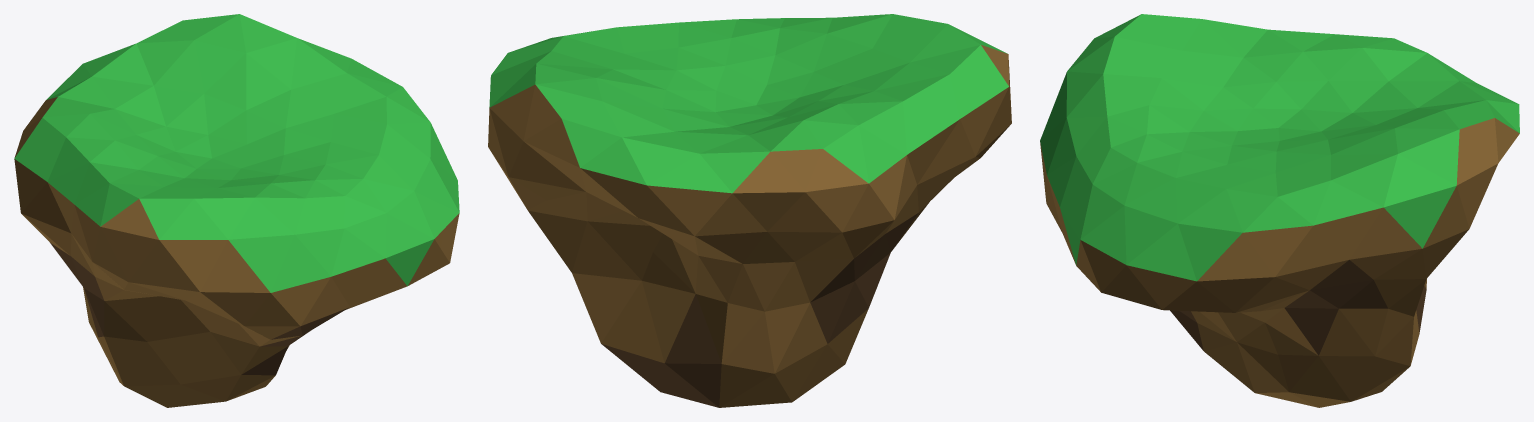
File: floatingisland1.glb
3 views of the same model, side by side, from view 1: azimuth 30°, elevation 25°; view 2: azimuth 150°, elevation 25°; view 3: azimuth 270°, elevation 25° (orthographic). The views are drawn at different scales.
Parts seen in each view (by area): view 1: Icosphere; view 2: Icosphere; view 3: Icosphere.
Boxes of the visible parts, x1=… form: Icosphere: x1=14, y1=14, x2=459, y2=407; Icosphere: x1=488, y1=14, x2=1011, y2=407; Icosphere: x1=1040, y1=14, x2=1519, y2=407.
Size of the model in its own units: 17.33 by 12.97 by 17.72.
